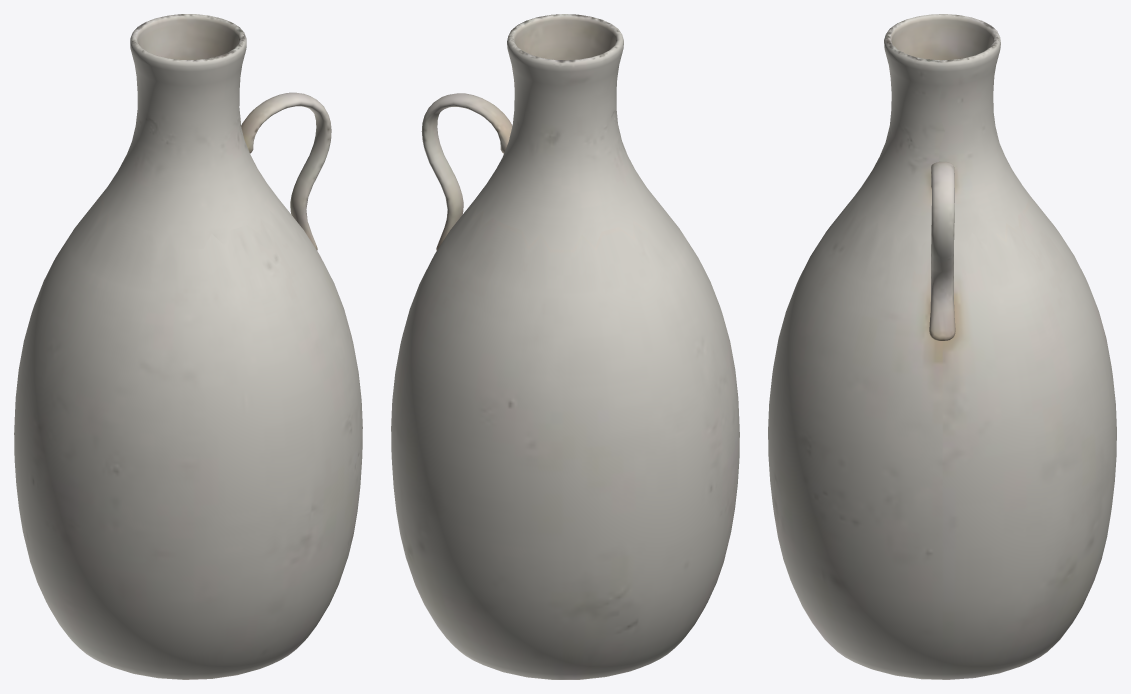
Rendered from ceramic_vase_04.glb.
The picture shows the model from 3 angles, left to right: view 1: azimuth 30°, elevation 25°; view 2: azimuth 150°, elevation 25°; view 3: azimuth 270°, elevation 25°; orthographic projection.
Parts seen in each view (by area): view 1: ceramic_vase_04_lod0; view 2: ceramic_vase_04_lod0; view 3: ceramic_vase_04_lod0.
Boxes of the visible parts, x1,y1,x2,y2 form: ceramic_vase_04_lod0: [14, 14, 362, 679]; ceramic_vase_04_lod0: [391, 14, 739, 679]; ceramic_vase_04_lod0: [768, 14, 1116, 679].
Size of what is drawn, in the model's own units: 0.1811 by 0.3419 by 0.1811.
Materials: 1 (1 with a texture image).
